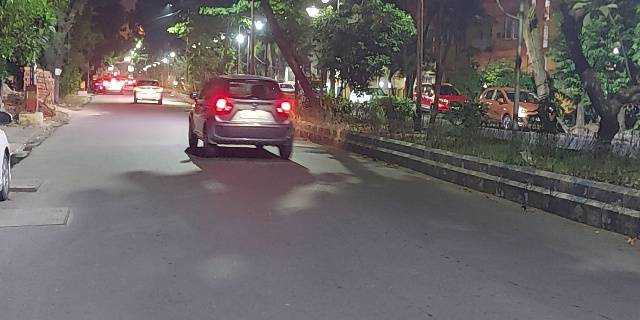Car: (187, 75, 293, 156), (131, 79, 167, 107)
